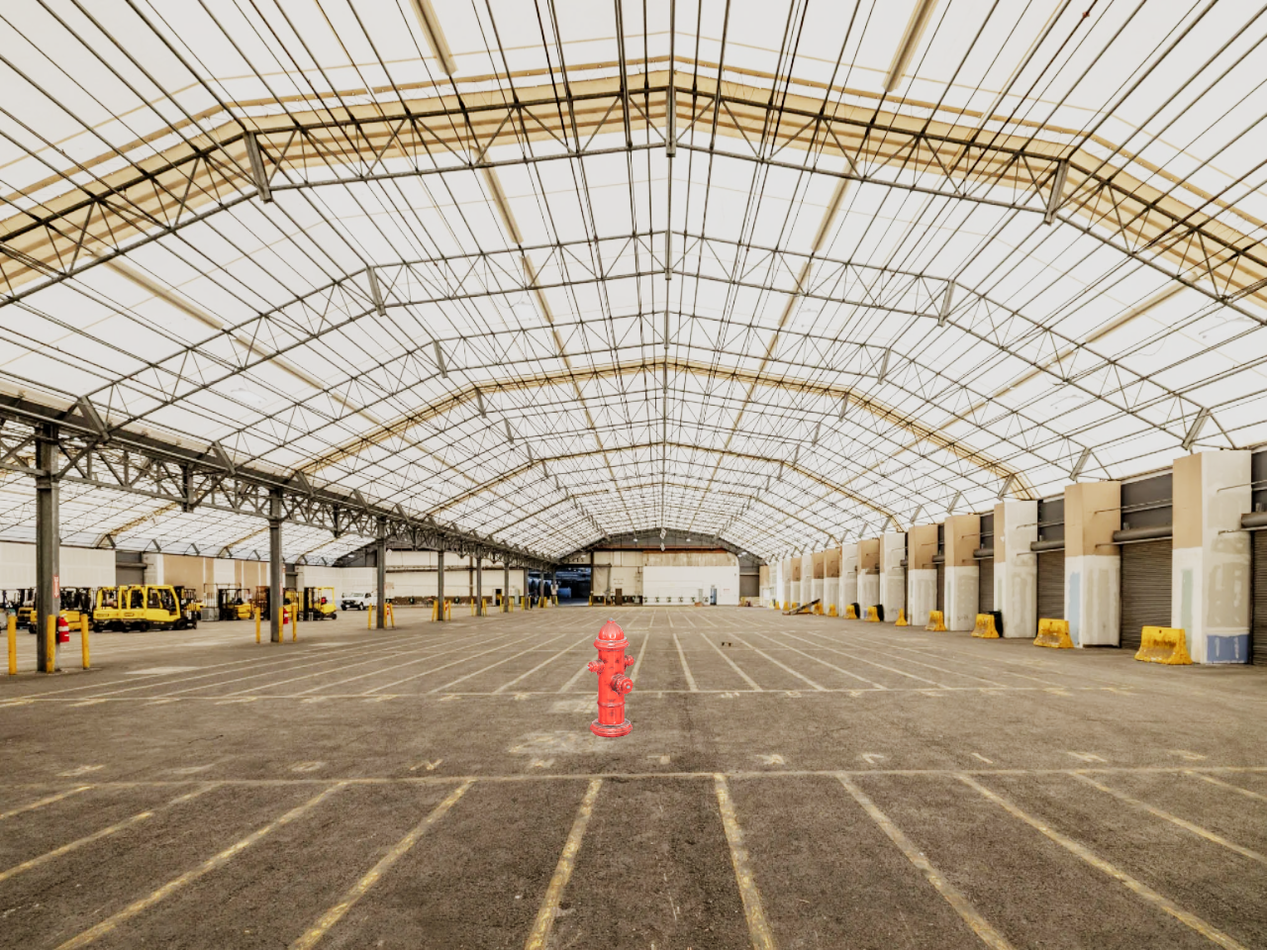ShirAtashNeshani: (587, 618, 635, 738)
